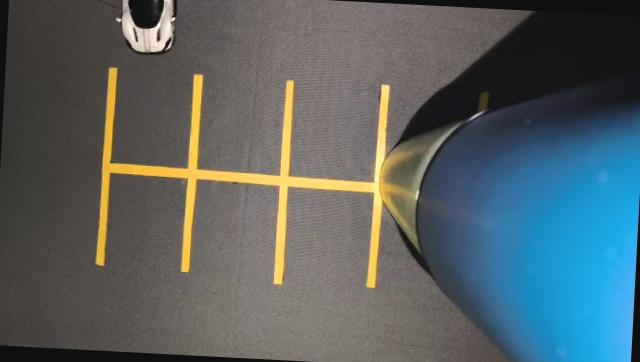toy_car: (79, 0, 191, 100)
